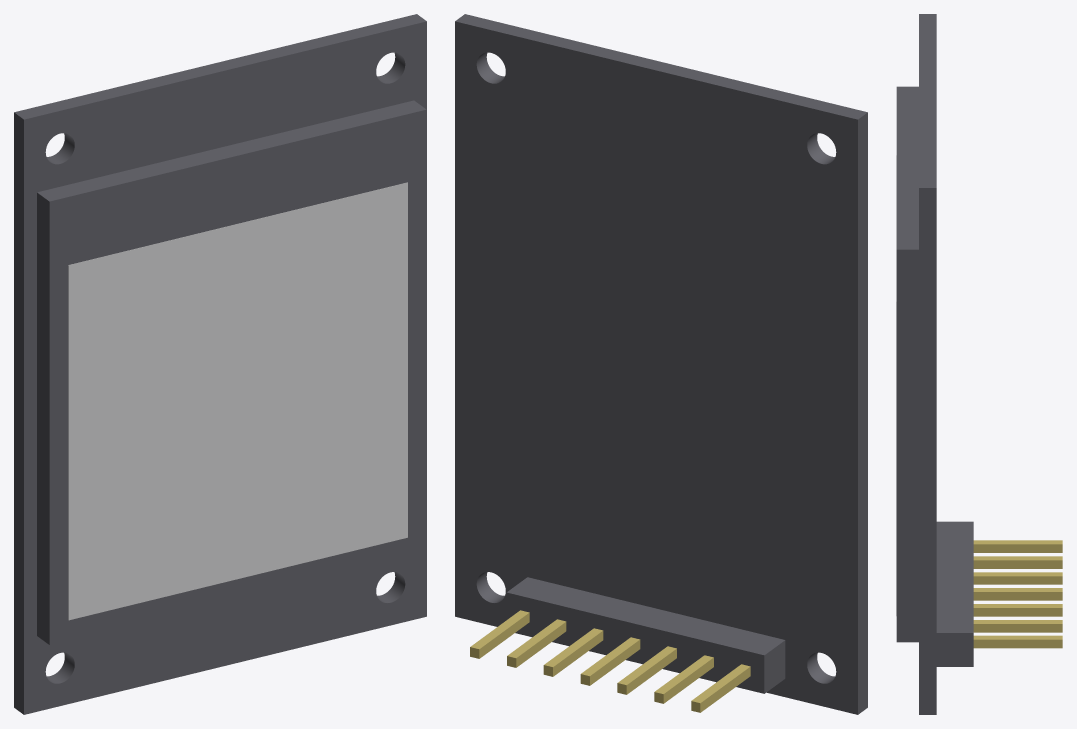
The model's file is st7789_module_13.glb.
3 renders of one model, left to right at view 1: azimuth 30°, elevation 25°; view 2: azimuth 150°, elevation 25°; view 3: azimuth 270°, elevation 25°, orthographic. The views are drawn at different scales.
Visible parts, largest first — view 1: extra, housing; view 2: extra, pins; view 3: extra, pins, housing.
Part boxes in pixels (x1,y1,x2,y2): extra: [14, 14, 426, 714]; housing: [68, 182, 407, 620]; extra: [455, 14, 867, 714]; pins: [470, 610, 750, 712]; extra: [896, 14, 973, 714]; pins: [973, 540, 1062, 648]; housing: [896, 155, 896, 615].
Size of the model in its own units: 27.78 by 39.22 by 11.22.
